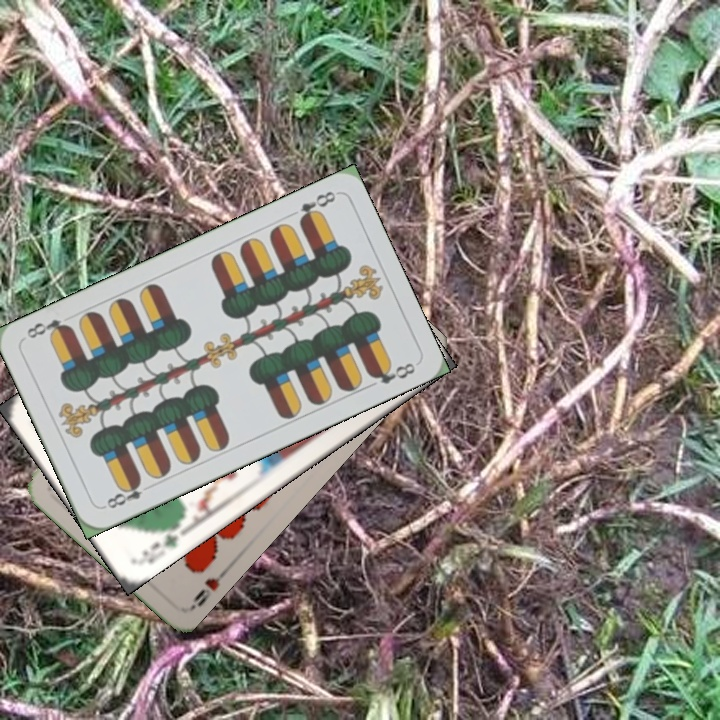E8: (99, 475, 155, 512), (295, 187, 339, 226)
GK: (134, 518, 182, 567)
H9: (187, 564, 232, 612)
